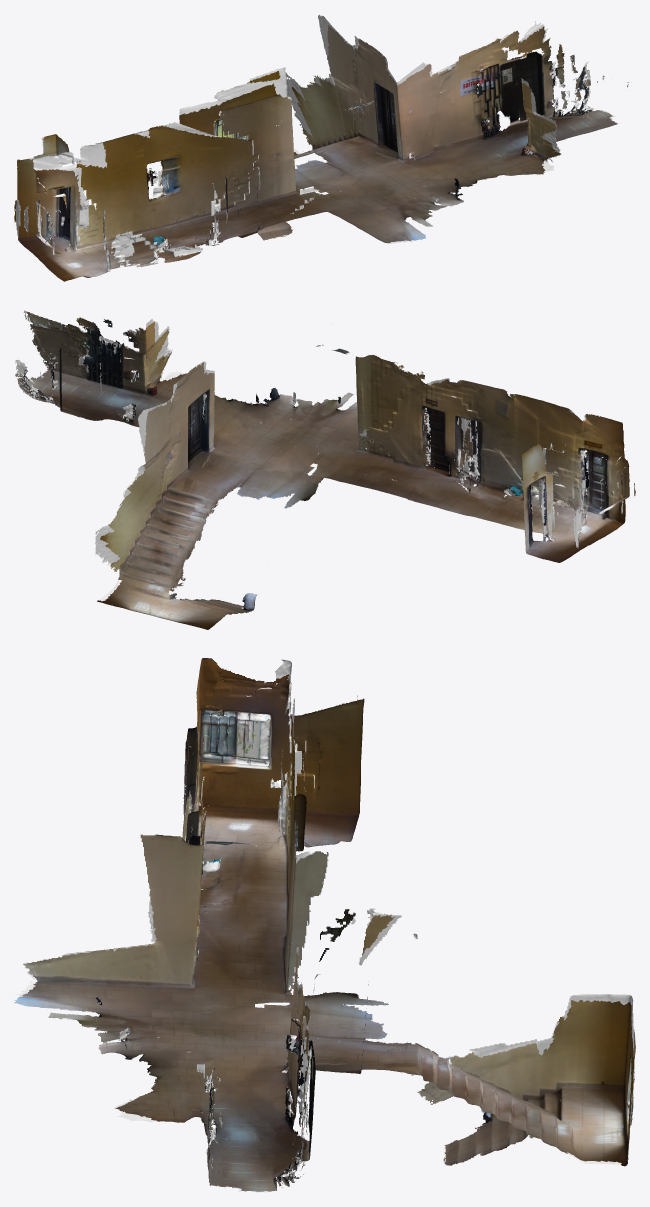
3 views of the same model, one above another, from view 1: azimuth 30°, elevation 25°; view 2: azimuth 150°, elevation 25°; view 3: azimuth 270°, elevation 25° (orthographic). The views are drawn at different scales.
Parts seen in each view (by area): view 1: texture_4, texture_5, texture_0, texture_1, object 4, texture_10, texture_2, texture_3, texture_11, texture_6, texture_9, texture_8 (+3 smaller); view 2: texture_6, texture_11, texture_12, texture_1, texture_9, texture_2, texture_0, object 4, texture_10, texture_4, texture_13, texture_7 (+3 smaller); view 3: texture_2, texture_7, texture_3, texture_6, texture_13, texture_10, texture_0, texture_4, object 4, texture_5, texture_11, texture_9 (+2 smaller).
Boxes of the visible parts, x1,y1,x2,y2 form: texture_4: [148, 96, 295, 245]; texture_5: [429, 27, 585, 163]; texture_0: [38, 133, 242, 273]; texture_1: [302, 25, 450, 173]; object 4: [14, 14, 629, 271]; texture_10: [349, 82, 560, 192]; texture_2: [227, 94, 463, 242]; texture_3: [14, 153, 115, 281]; texture_11: [214, 71, 360, 158]; texture_6: [203, 139, 389, 245]; texture_9: [519, 45, 628, 141]; texture_8: [35, 134, 217, 247]; texture_6: [224, 357, 503, 508]; texture_11: [100, 470, 223, 601]; texture_12: [450, 390, 622, 527]; texture_1: [144, 362, 254, 543]; texture_9: [15, 311, 144, 416]; texture_2: [234, 344, 463, 489]; texture_0: [420, 397, 608, 537]; object 4: [15, 310, 634, 606]; texture_10: [102, 319, 278, 468]; texture_4: [342, 382, 483, 505]; texture_13: [514, 430, 635, 538]; texture_7: [97, 527, 256, 629]; texture_2: [14, 799, 296, 1074]; texture_7: [417, 1000, 634, 1166]; texture_3: [197, 674, 364, 857]; texture_6: [186, 760, 393, 1050]; texture_13: [183, 658, 271, 859]; texture_10: [115, 1035, 315, 1141]; texture_0: [196, 718, 306, 935]; texture_4: [187, 744, 328, 982]; object 4: [16, 659, 635, 1192]; texture_5: [205, 979, 315, 1178]; texture_11: [385, 1029, 635, 1161]; texture_9: [205, 1067, 315, 1191].
Bounding box in the file's own units: 19.32 × 6.27 × 11.87.
15 materials, 14 textured.
